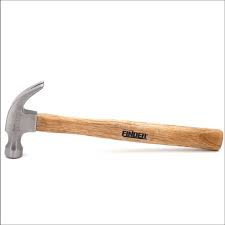hammer: (2, 79, 225, 159)
